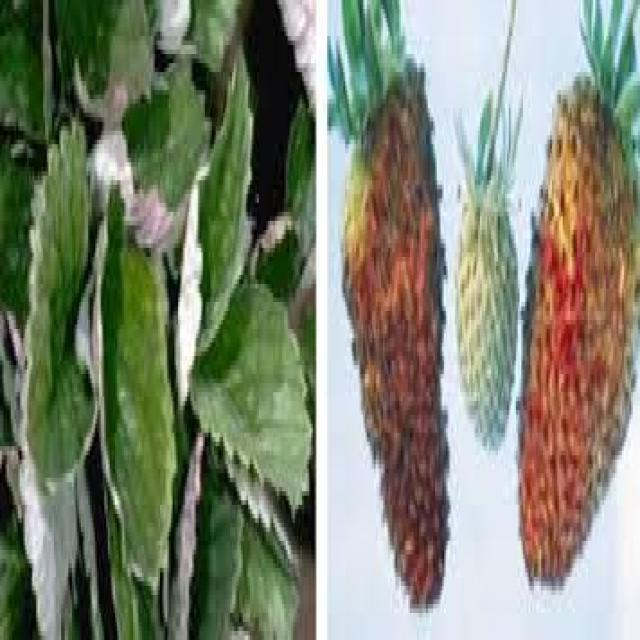Mancha negra Antracnosis: (334, 84, 459, 616), (520, 70, 638, 626)
